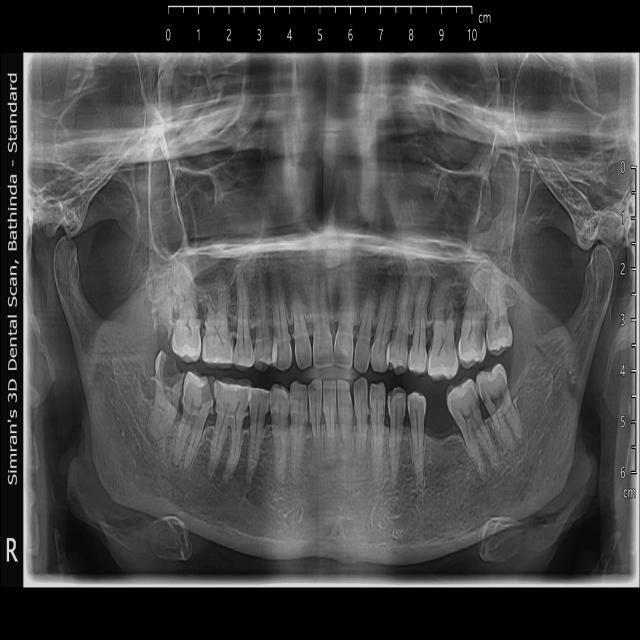Caries: (448, 376, 483, 429), (460, 318, 488, 368), (199, 381, 216, 405)
Missing teeth: (429, 412, 451, 468)
Root Piece: (153, 293, 178, 339)
